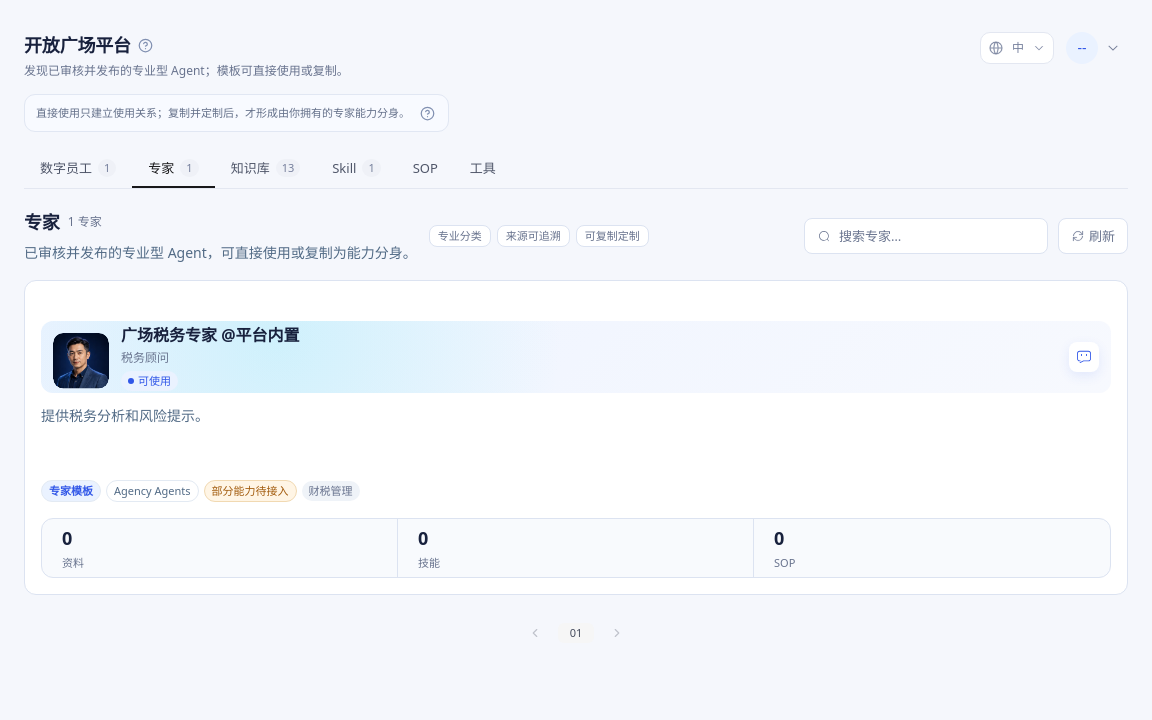
Scenario: 开放平台专家分类与数字员工分类隔离，并保留使用与复制入口
Expected: the text "广场税务专家 @平台内置" is shown, [121,324,300,346]
Click the button "广场税务专家" at (576, 298), box [24,280,1128,594]
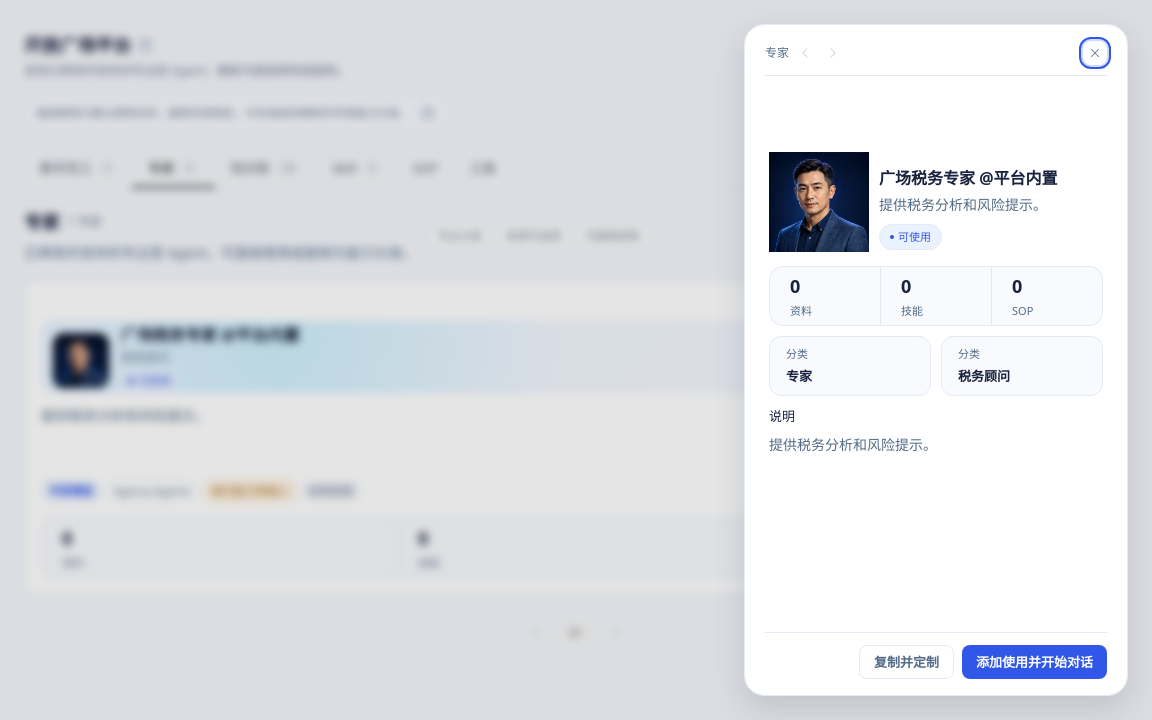
Expected: the button "复制并定制" is shown, [859,645,954,679]
Expected: the button "添加使用并开始对话" is shown, [962,645,1107,679]
